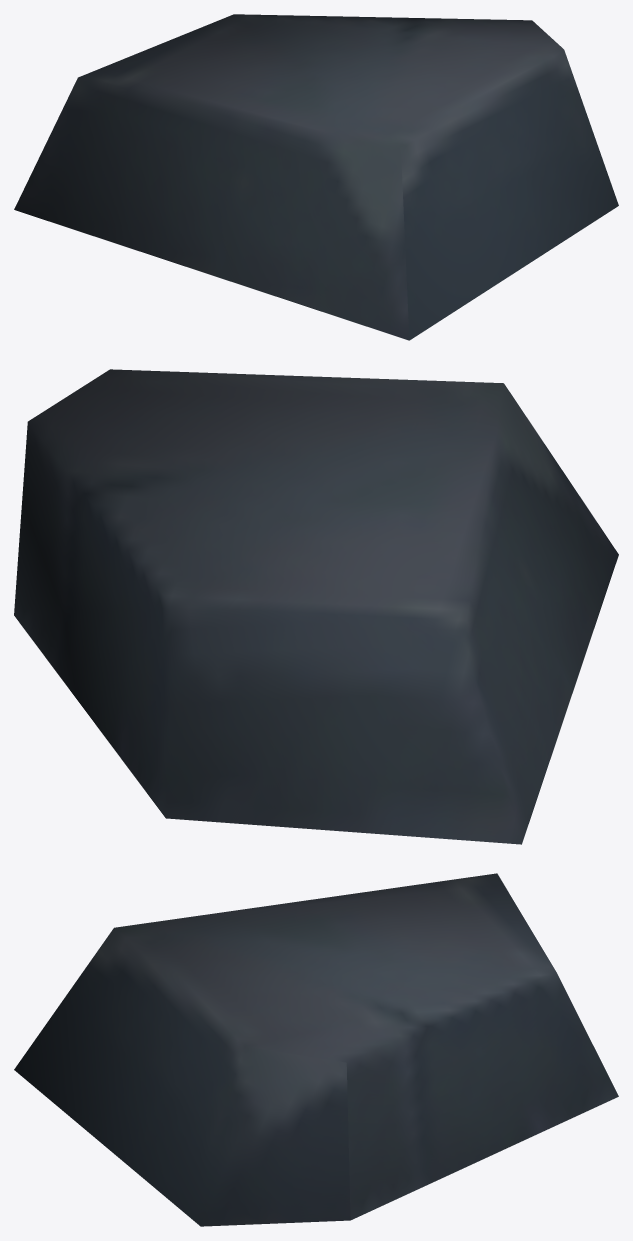
Rendered from Area_04_14.fbx.
3 renders of one model, top to bottom at view 1: azimuth 30°, elevation 25°; view 2: azimuth 150°, elevation 25°; view 3: azimuth 270°, elevation 25°, orthographic. The views are drawn at different scales.
Parts seen in each view (by area): view 1: Area_04_14; view 2: Area_04_14; view 3: Area_04_14.
Part boxes in pixels (x1,y1,x2,y2): Area_04_14: (14,14,618,340); Area_04_14: (14,369,618,844); Area_04_14: (14,873,618,1226).
Size of the model in its own units: 158 by 49.19 by 167.
